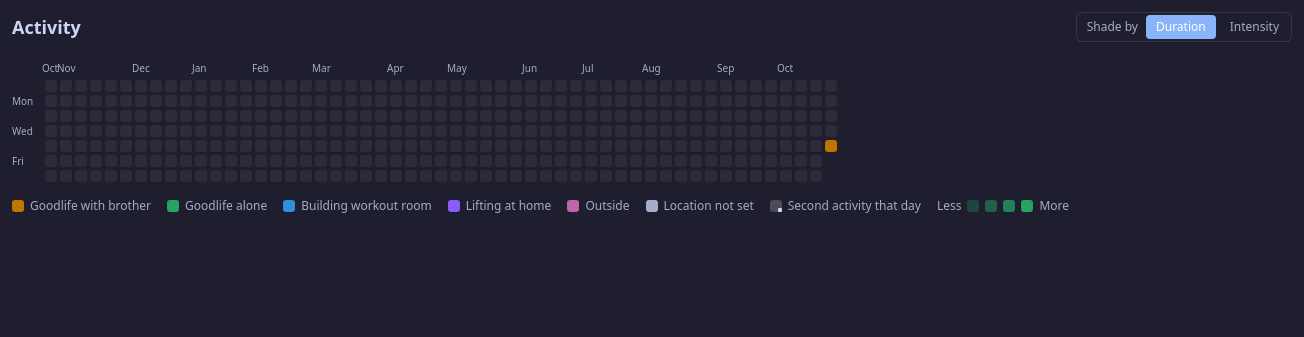
Test: day cells › opens that day’s sessions when clicked, and closes on a second click
Click the button named "2026-10-29: Goodlife with brother, 60 min, intensity 4/5 — I": [831, 146] box [825,140,837,152]
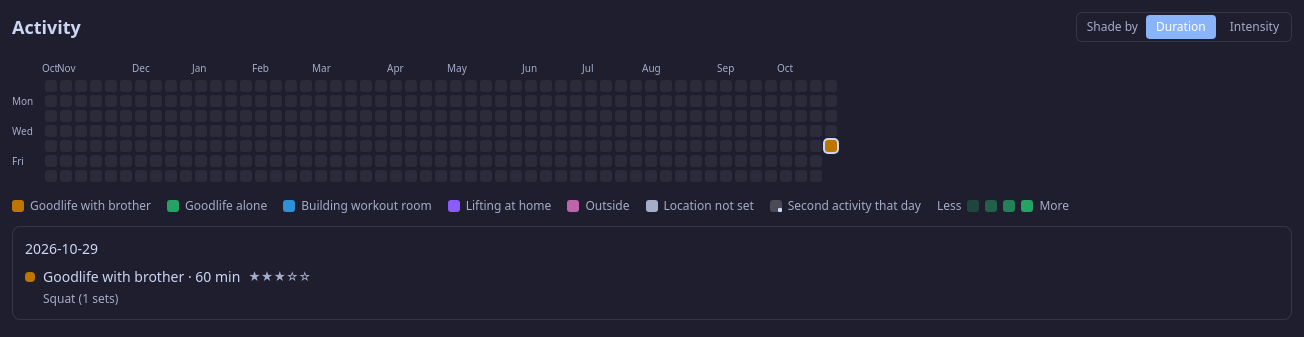
Expected: the text "Squat (1 sets)" is shown, [43,290,118,307]
Expected: the text "Goodlife with brother · 60 min" is shown, [43,267,240,287]
Click the button named "2026-10-29: Goodlife with brother, 60 min, intensity 4/5 — I": [831, 146] box [825,140,837,152]
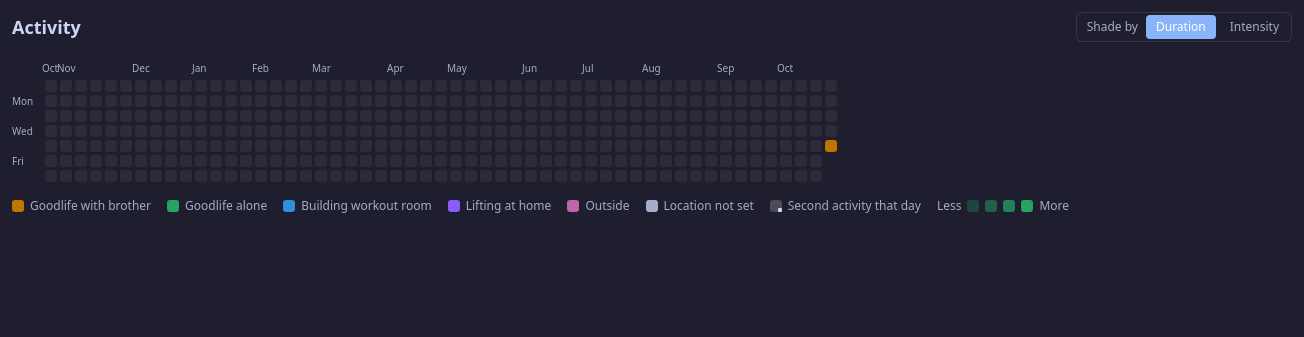
Expected: the text "Squat (1 sets)" is gone
